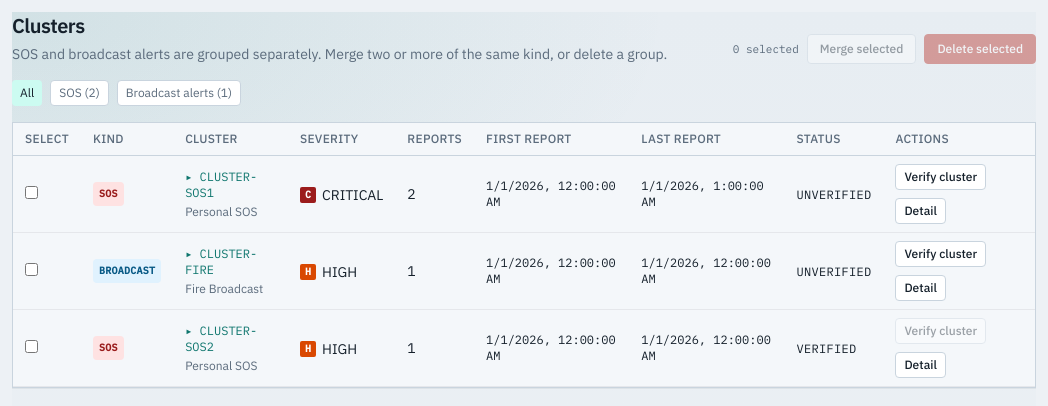
ClustersPage kinds and bulk actions › filters to SOS clusters only
Click the button "SOS (2)" at (79, 93), box [50,80,109,106]
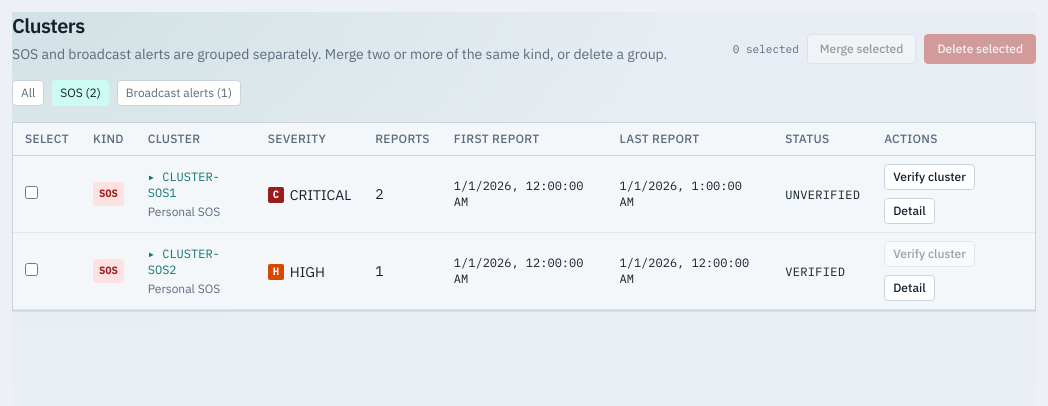
Expected: the button "▸ CLUSTER-SOS1" is shown, [148,168,244,200]
Now the button "CLUSTER-FIRE" is gone
